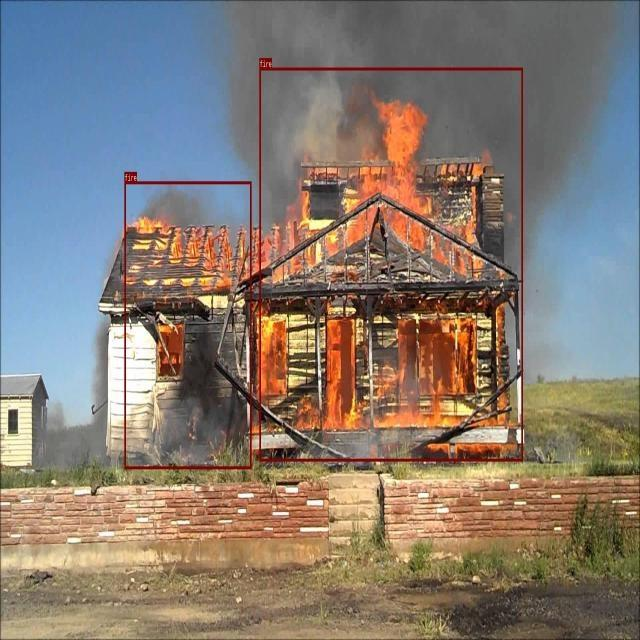fire: (259, 67, 523, 461), (124, 181, 251, 469)
